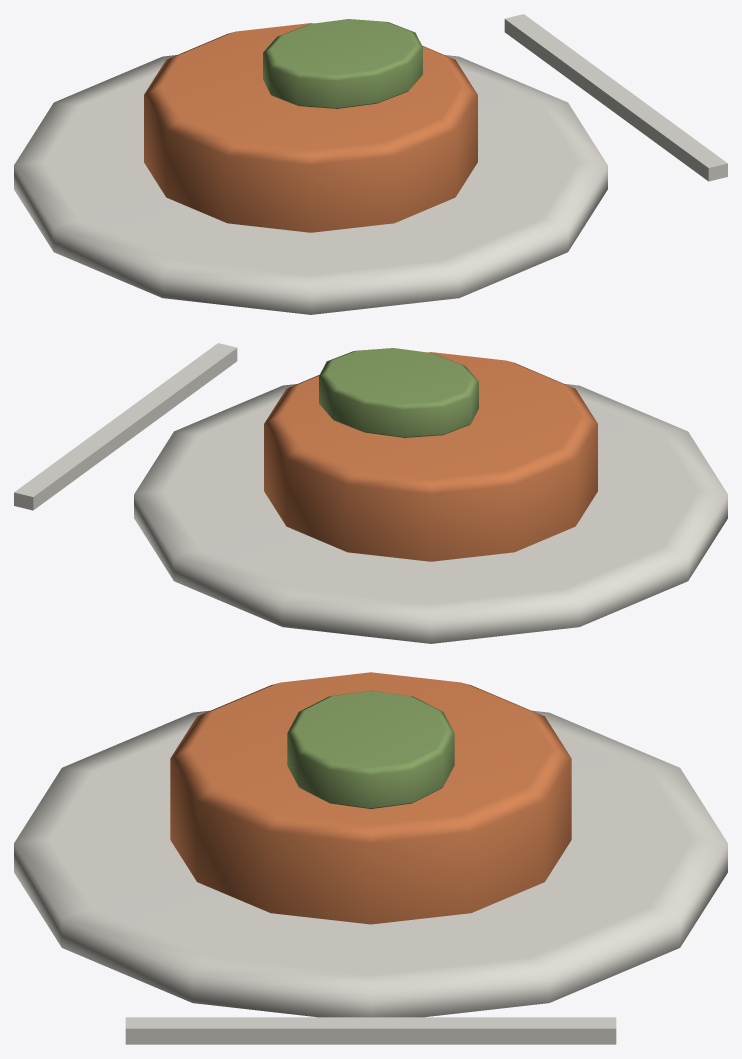
Rendered from restaurant-low.glb.
3 renders of one model, top to bottom at view 1: azimuth 30°, elevation 25°; view 2: azimuth 150°, elevation 25°; view 3: azimuth 270°, elevation 25°, orthographic. The views are drawn at different scales.
Visible parts, largest first — view 1: plate, dish, garnish, fork; view 2: plate, dish, garnish, fork; view 3: plate, dish, garnish, fork.
Boxes of the visible parts, left/top/right/bottom form: plate: left=14, top=55, right=607, bottom=314; dish: left=144, top=23, right=477, bottom=232; garnish: left=263, top=19, right=422, bottom=108; fork: left=504, top=14, right=727, bottom=181; plate: left=134, top=384, right=727, bottom=643; dish: left=264, top=352, right=597, bottom=561; garnish: left=319, top=348, right=478, bottom=437; fork: left=14, top=343, right=237, bottom=510; plate: left=14, top=710, right=727, bottom=1017; dish: left=170, top=672, right=571, bottom=924; garnish: left=287, top=690, right=454, bottom=808; fork: left=125, top=1017, right=616, bottom=1044.
Size of the model in its own units: 3.56 by 0.82 by 3.2.
